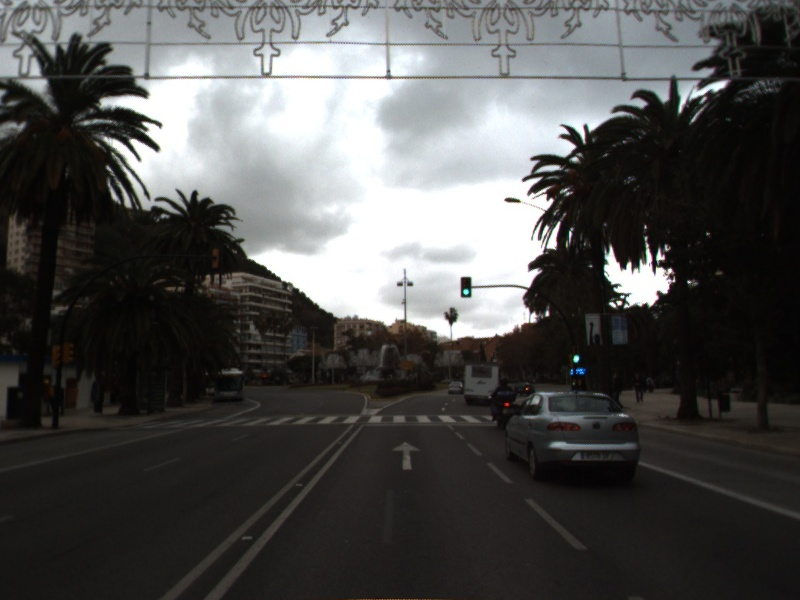STRAIGHT: (389, 439, 423, 472)
